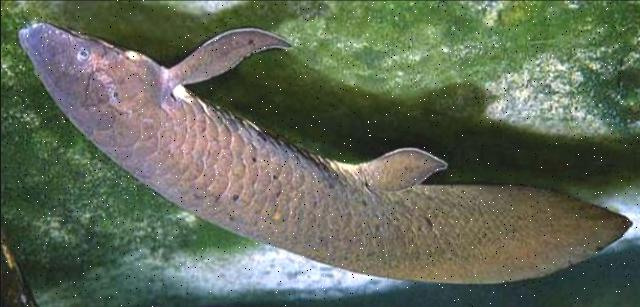Sirip Dada: (157, 18, 315, 108)
Sirip Ekor: (522, 170, 638, 284)
Sirip Perut: (342, 136, 456, 201)
